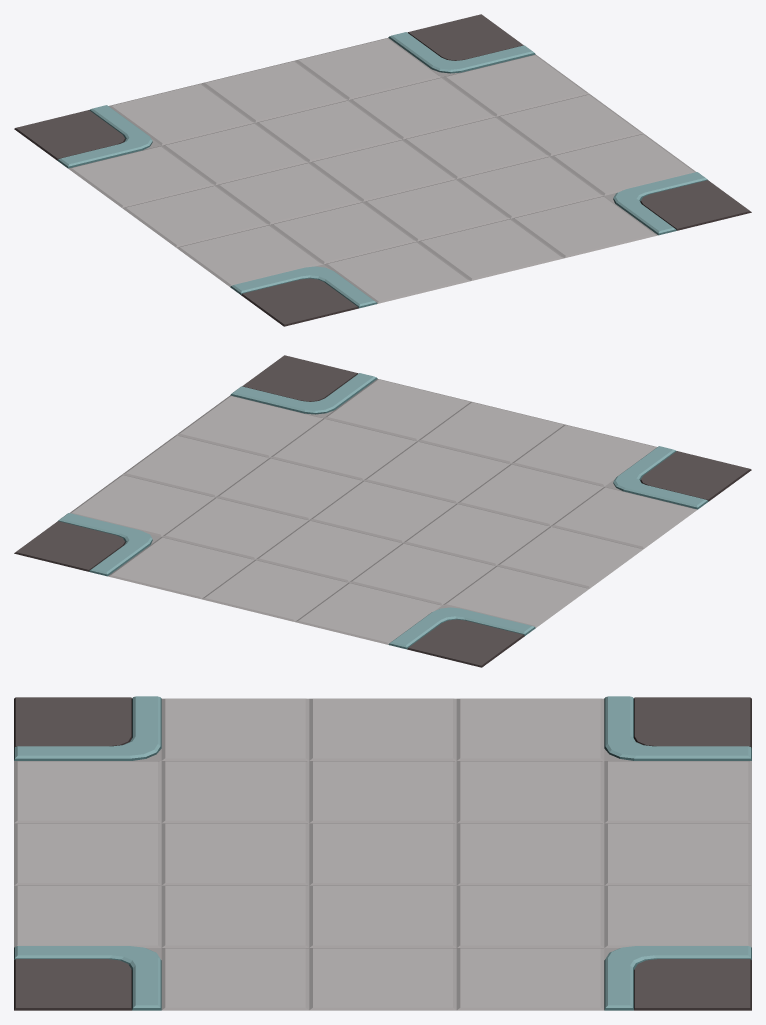
File: Crossroads_0.glb
3 views of the same model, one above another, from view 1: azimuth 30°, elevation 25°; view 2: azimuth 150°, elevation 25°; view 3: azimuth 270°, elevation 25° (orthographic). The views are drawn at different scales.
Visible parts, largest first — view 1: Crossroads_0; view 2: Crossroads_0; view 3: Crossroads_0.
Part boxes in pixels (x1,y1,x2,y2): Crossroads_0: (14,14,751,326); Crossroads_0: (14,355,751,667); Crossroads_0: (14,696,751,1010).
Bounding box in the file's own units: 16 × 0.0884 × 16.
1 material, 1 textured.
